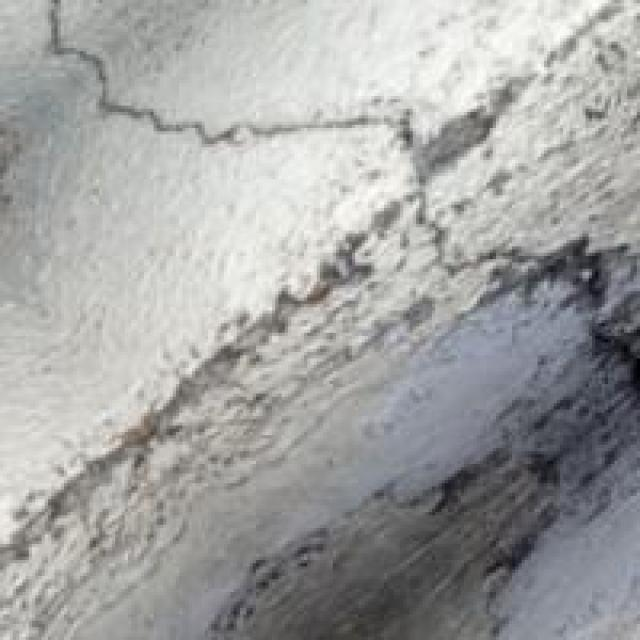Crack: (29, 2, 384, 200)
